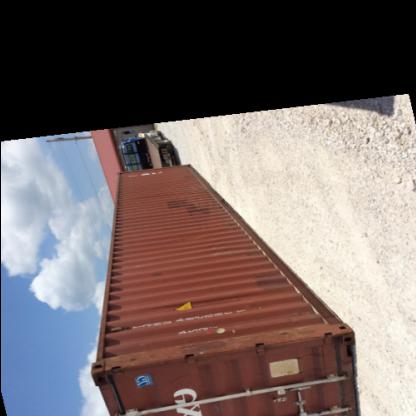Damage: (90, 334, 320, 377)
